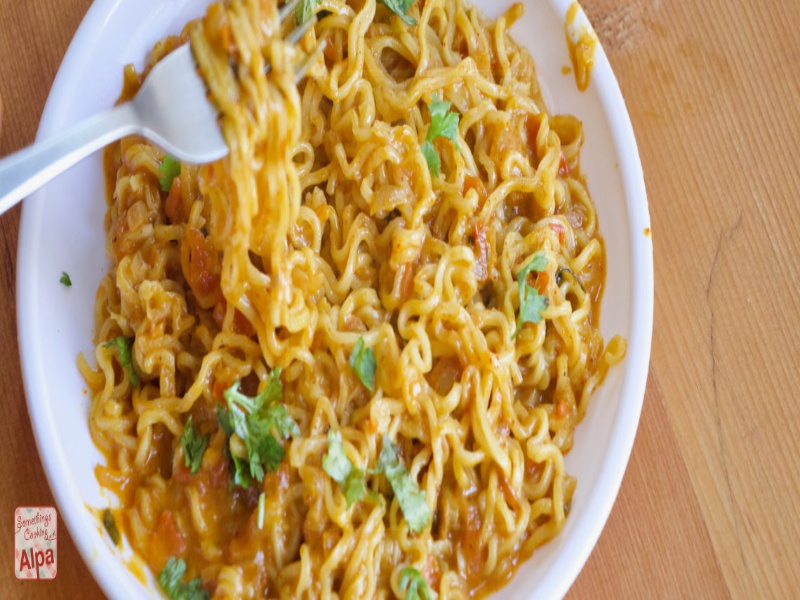maggi: (36, 9, 686, 594)
